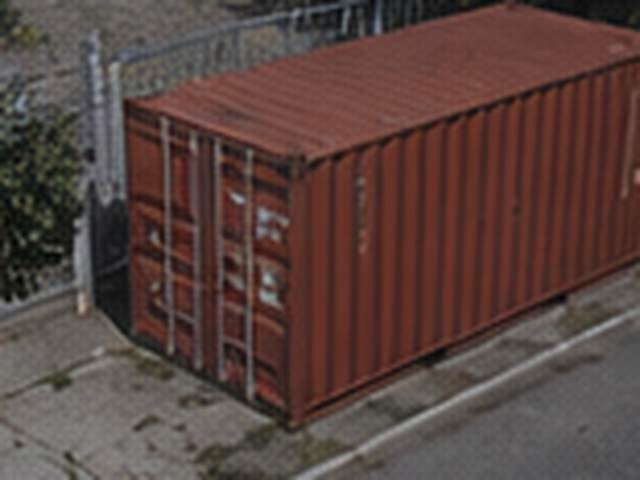male: (126, 5, 639, 424)
